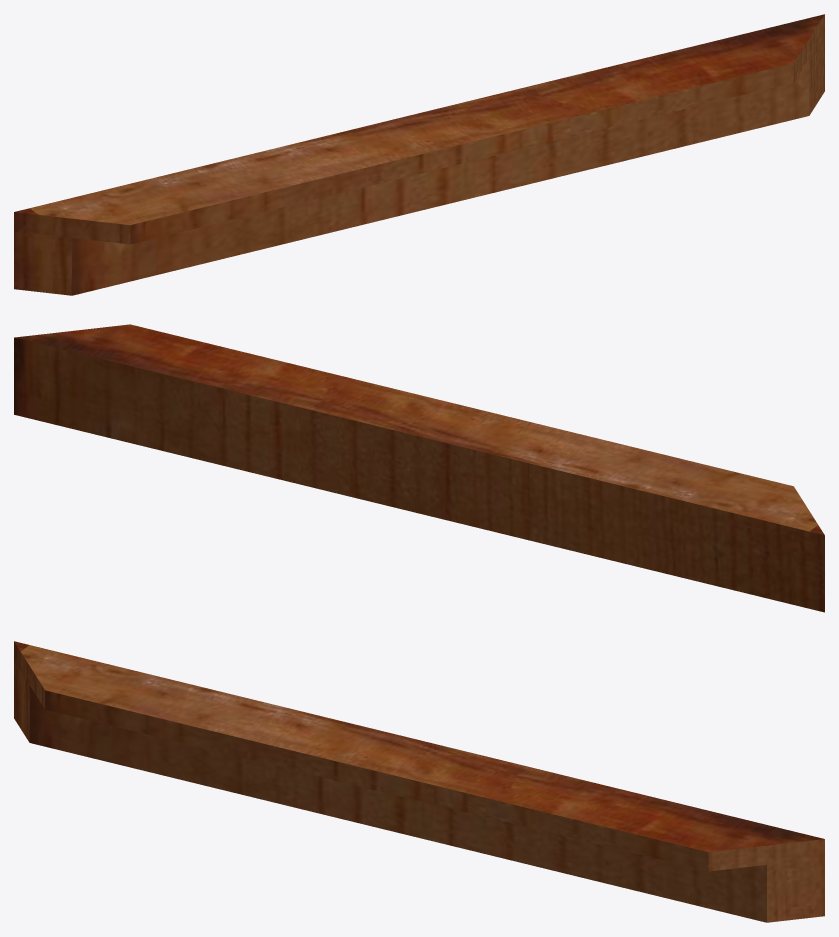
Rendered from BaguetteTextureMelange.gltf.
3 views of the same model, one above another, from view 1: azimuth 30°, elevation 25°; view 2: azimuth 150°, elevation 25°; view 3: azimuth 330°, elevation 25° (orthographic).
Visible parts, largest first — view 1: Baguette; view 2: Baguette; view 3: Baguette.
Boxes of the visible parts, bbox=[...] form: Baguette: bbox=[14, 14, 824, 295]; Baguette: bbox=[14, 324, 824, 612]; Baguette: bbox=[14, 641, 824, 922].
Size of the model in its own units: 22 by 2 by 2.
Materials: 1 (1 with a texture image).
